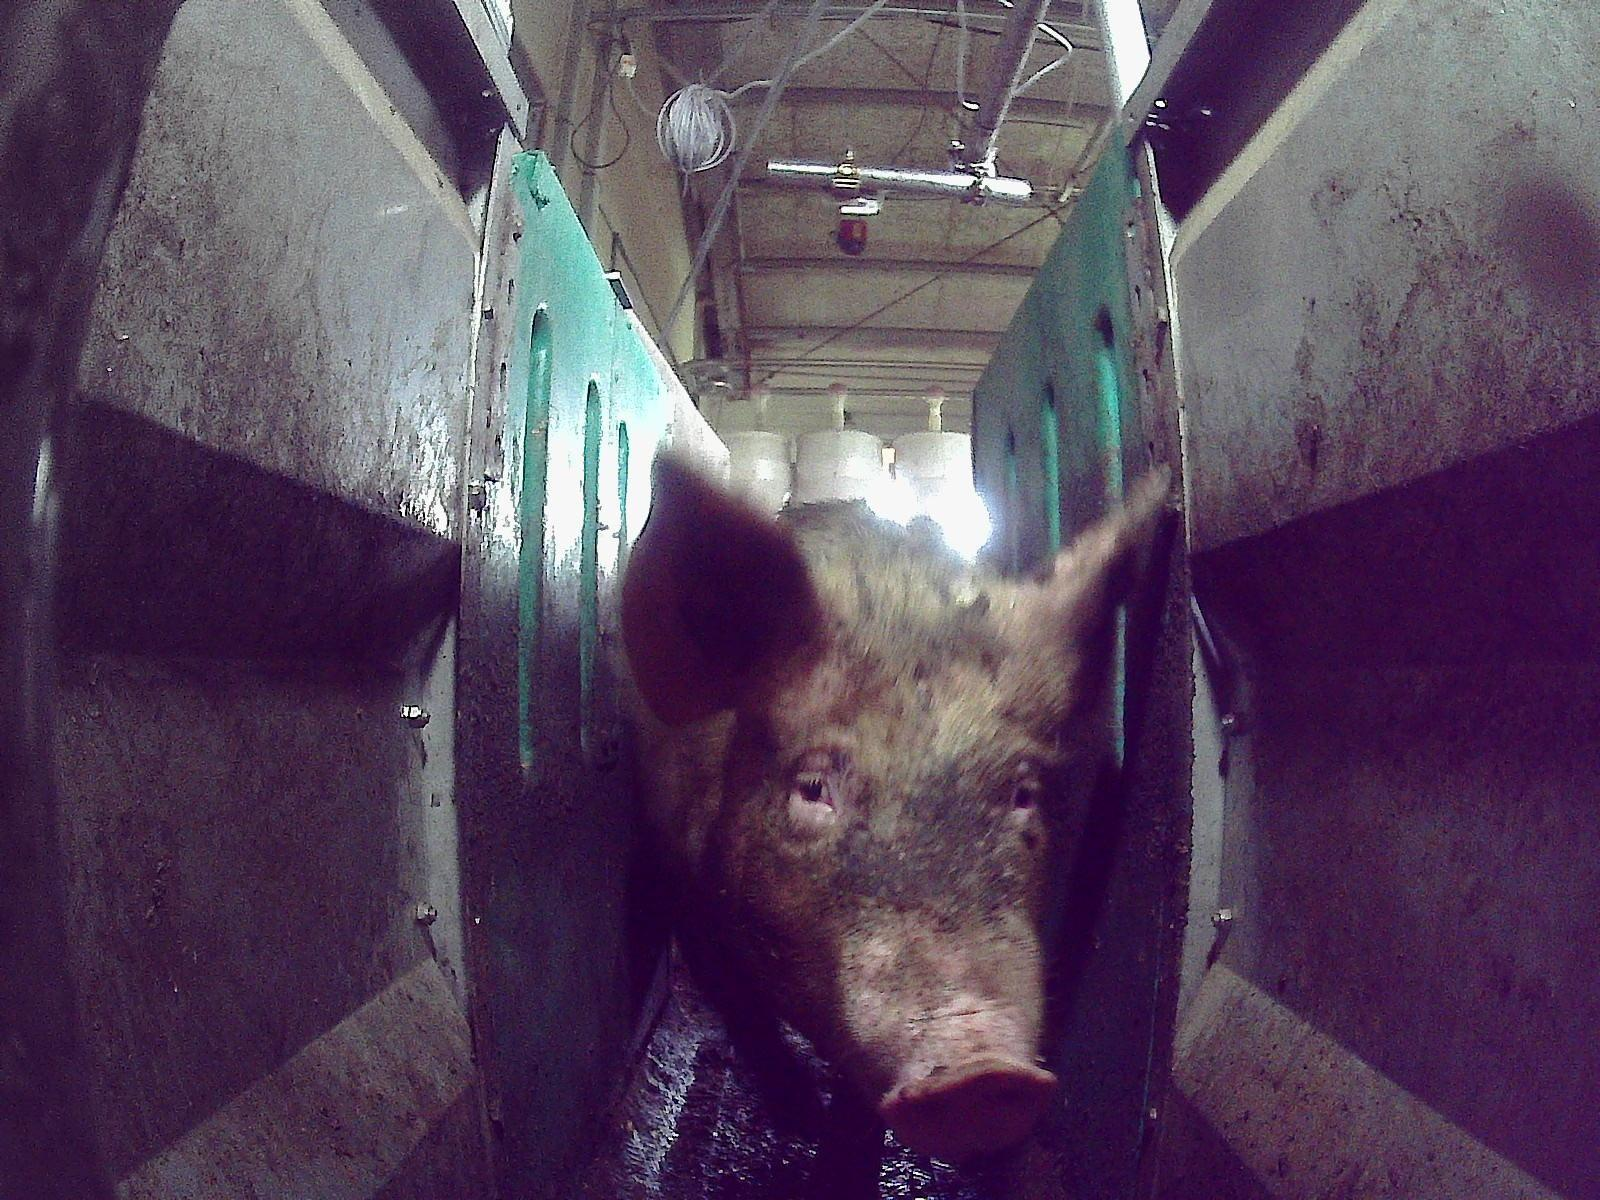Face: (741, 618, 1060, 1160)
